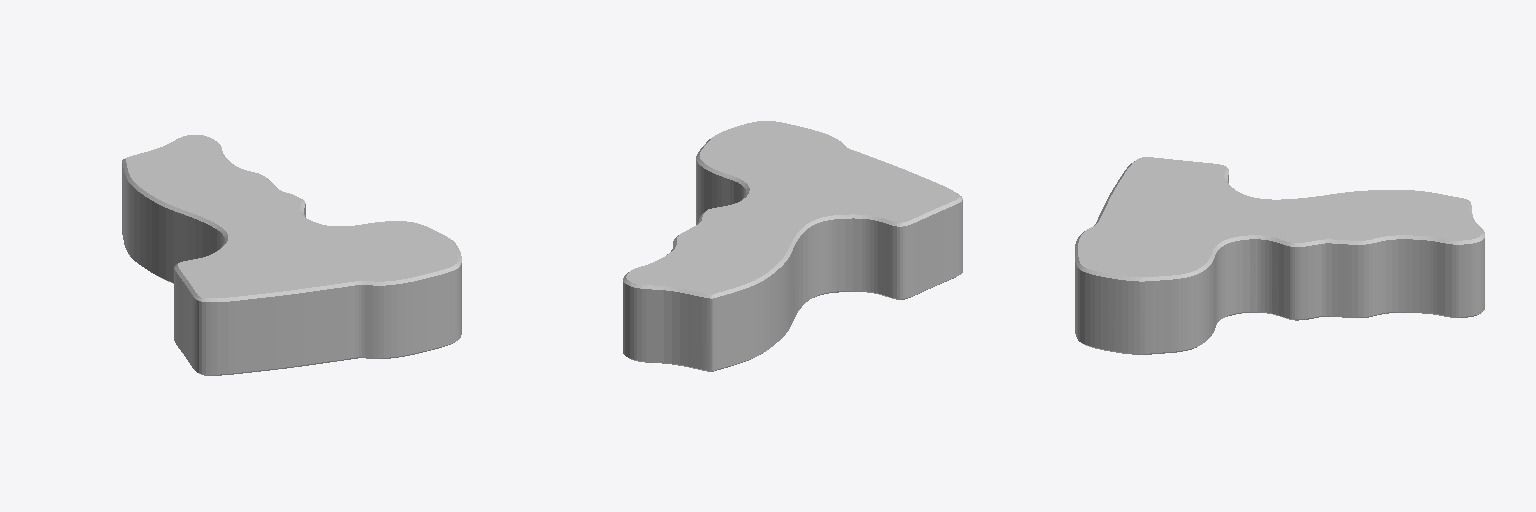
File: WheelFlatBody.obj
3 views of the same model, side by side, from view 1: azimuth 30°, elevation 25°; view 2: azimuth 150°, elevation 25°; view 3: azimuth 270°, elevation 25° (orthographic).
Parts seen in each view (by area): view 1: WheelFlatBody; view 2: WheelFlatBody; view 3: WheelFlatBody.
Boxes of the visible parts, box(x1,y1,x2,y2) form: WheelFlatBody: box(122, 135, 461, 375); WheelFlatBody: box(623, 121, 962, 371); WheelFlatBody: box(1075, 157, 1484, 354).
Size of the model in its own units: 0.1025 by 0.03 by 0.1442.